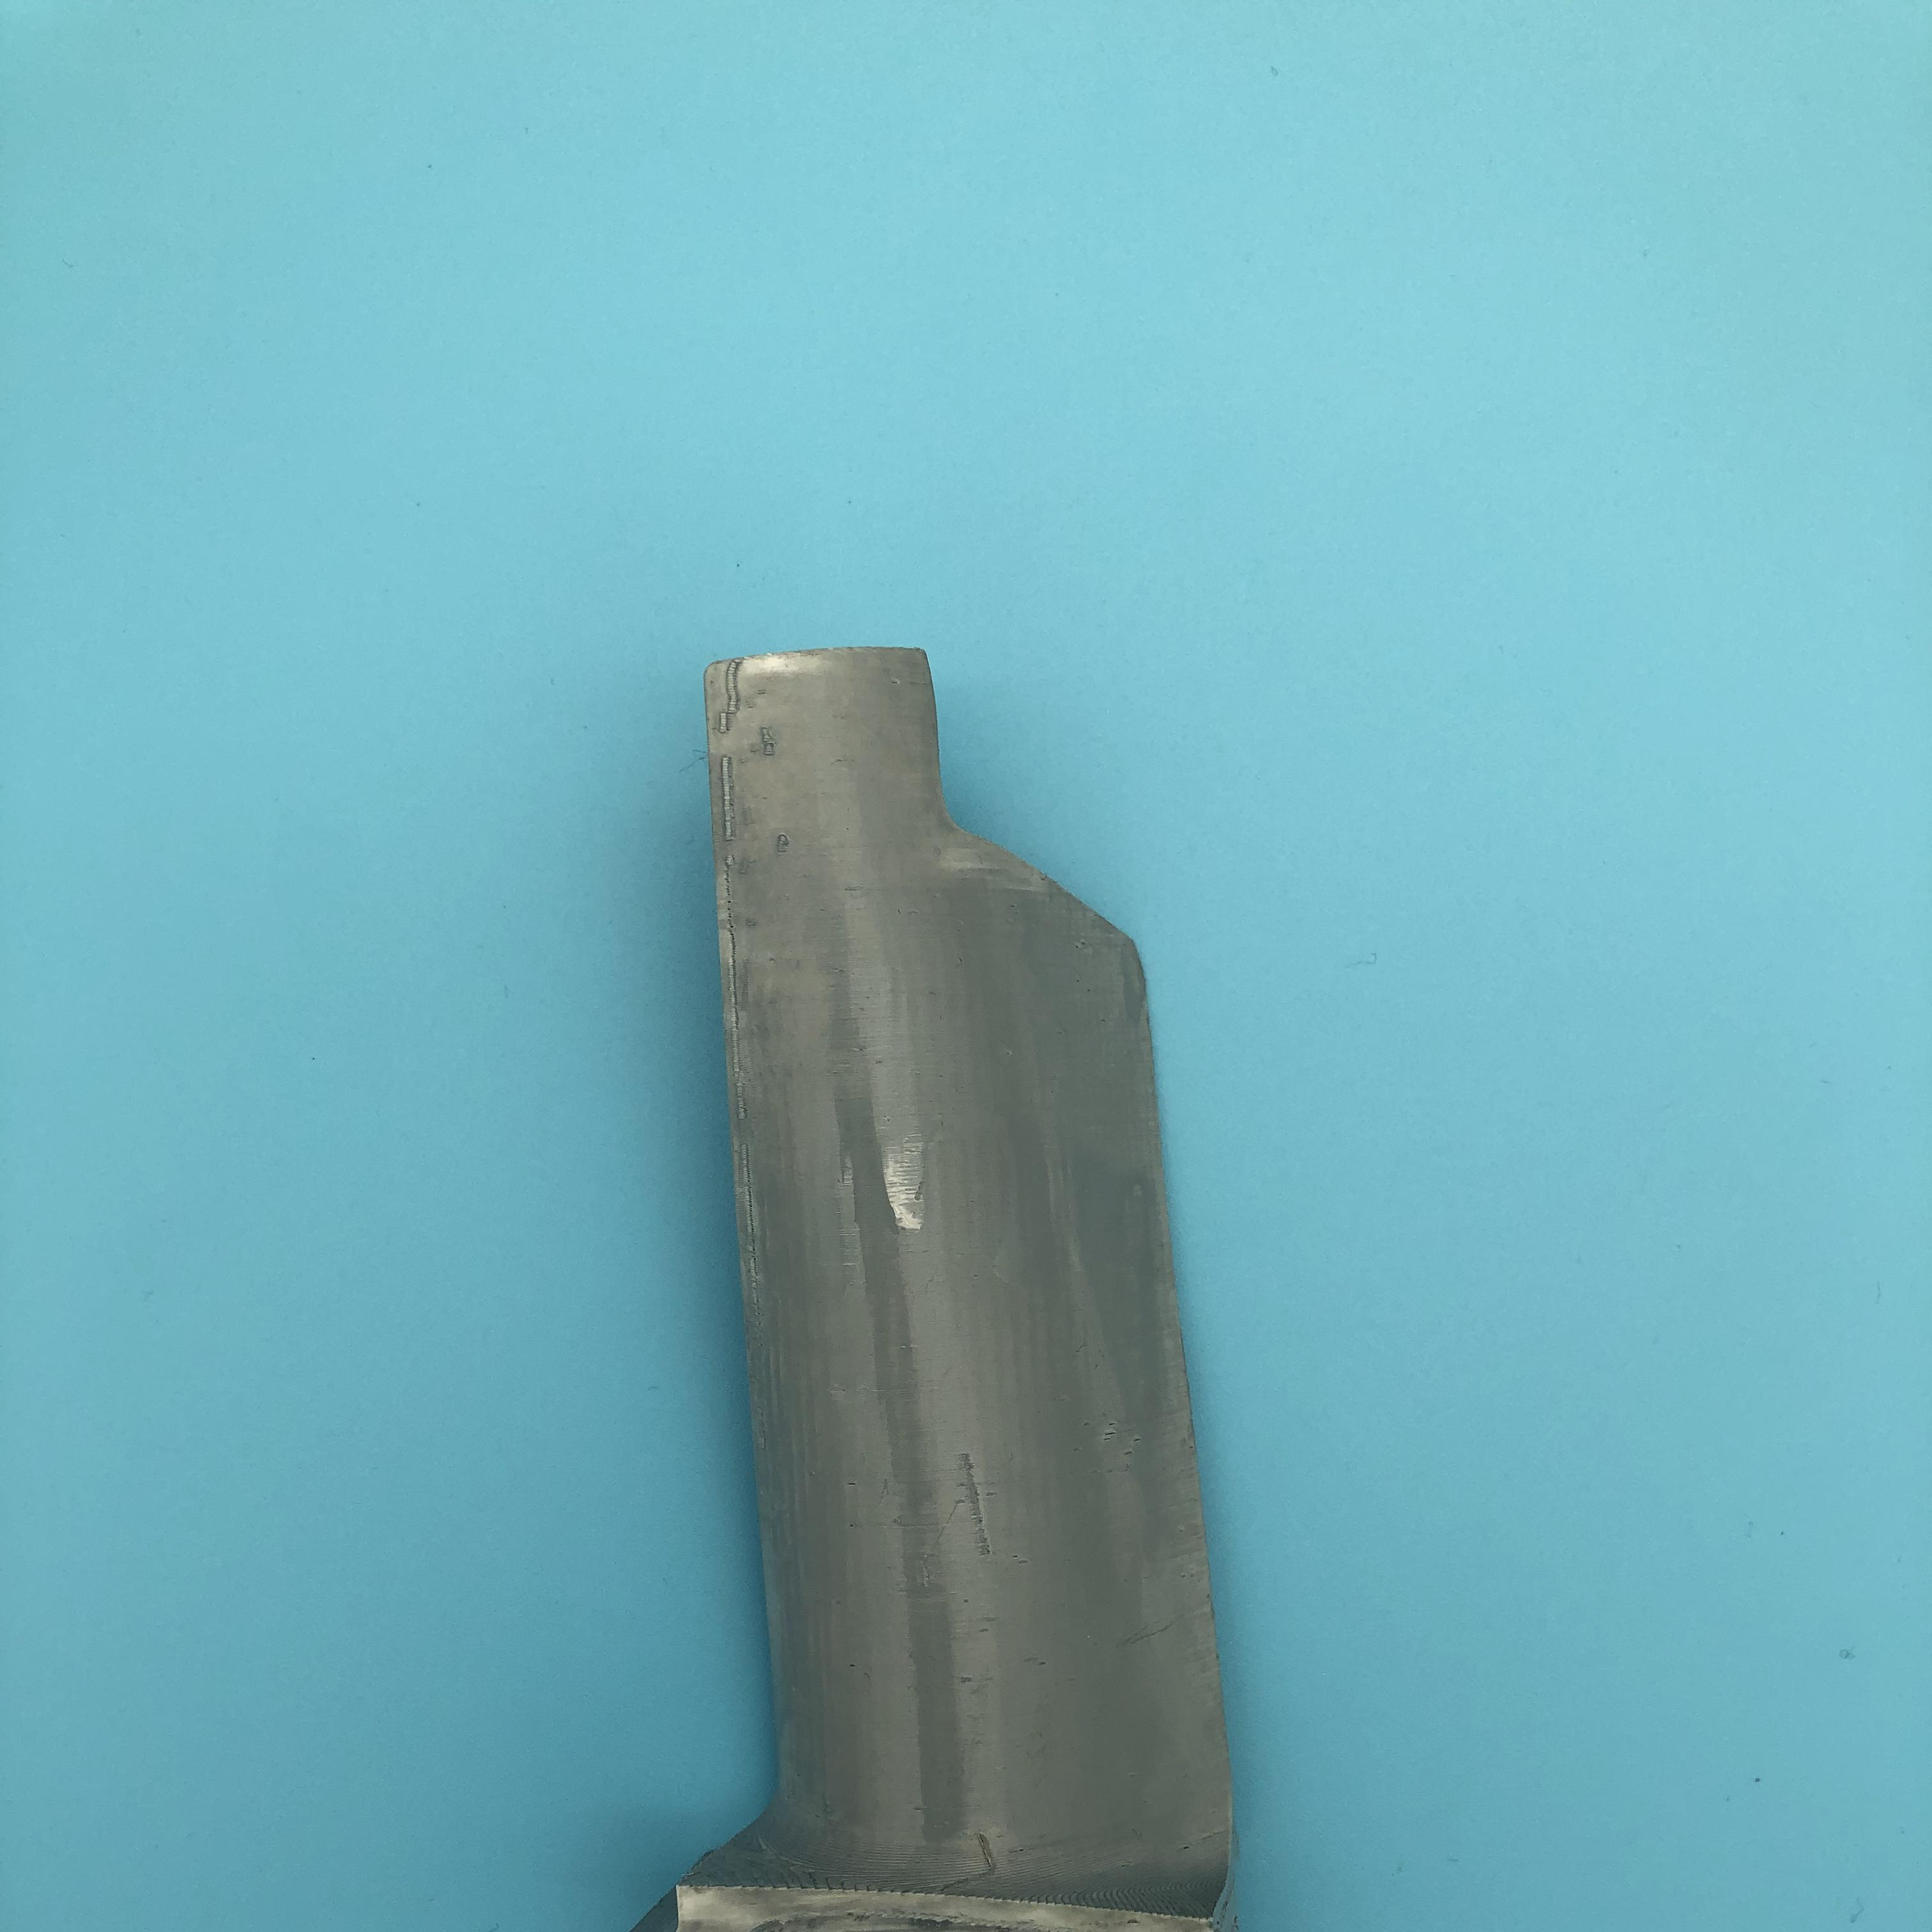fracture: (916, 655, 1145, 966)
